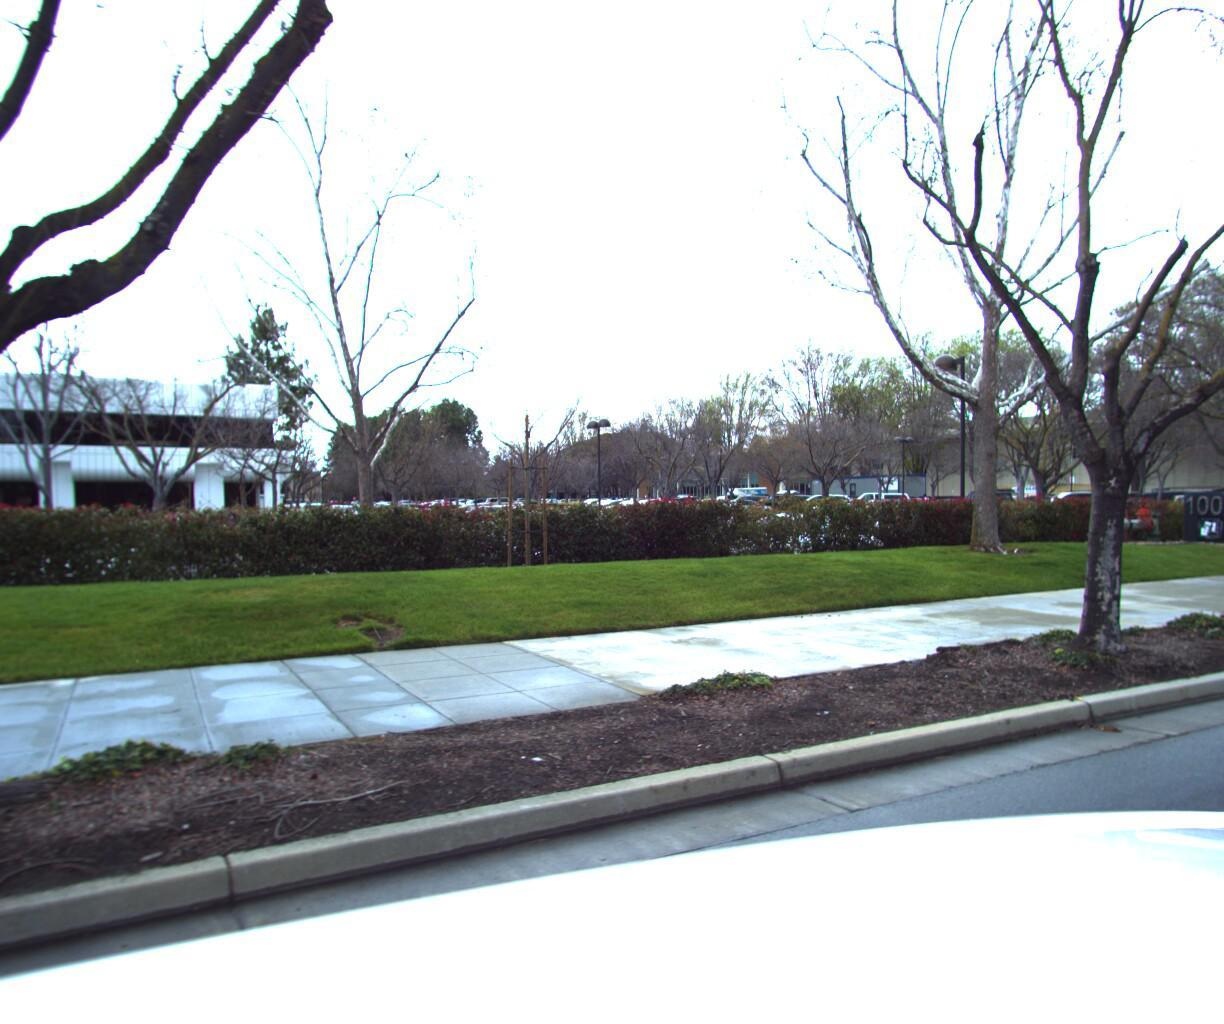car: (846, 494, 912, 518), (798, 495, 858, 517), (575, 500, 624, 517)
